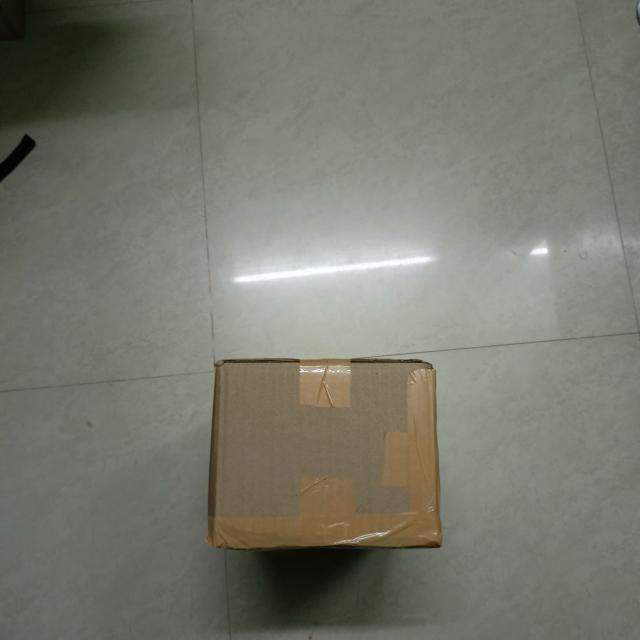box: (212, 363, 440, 549)
